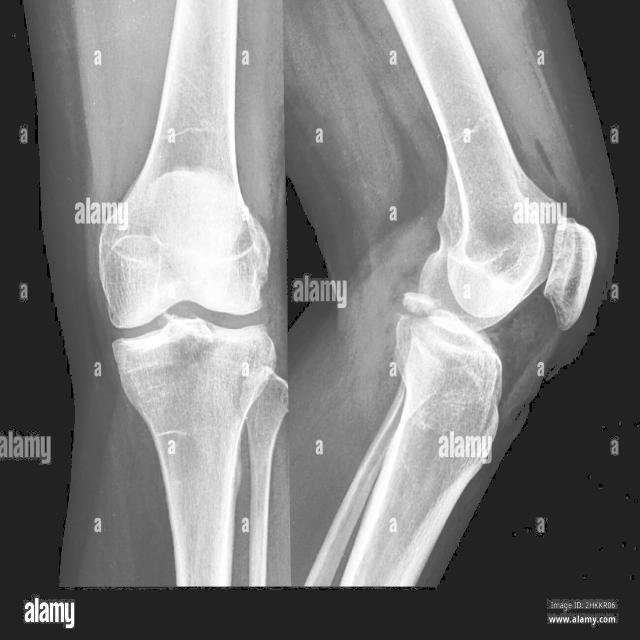Avlusion Fracture: (398, 284, 444, 326)
